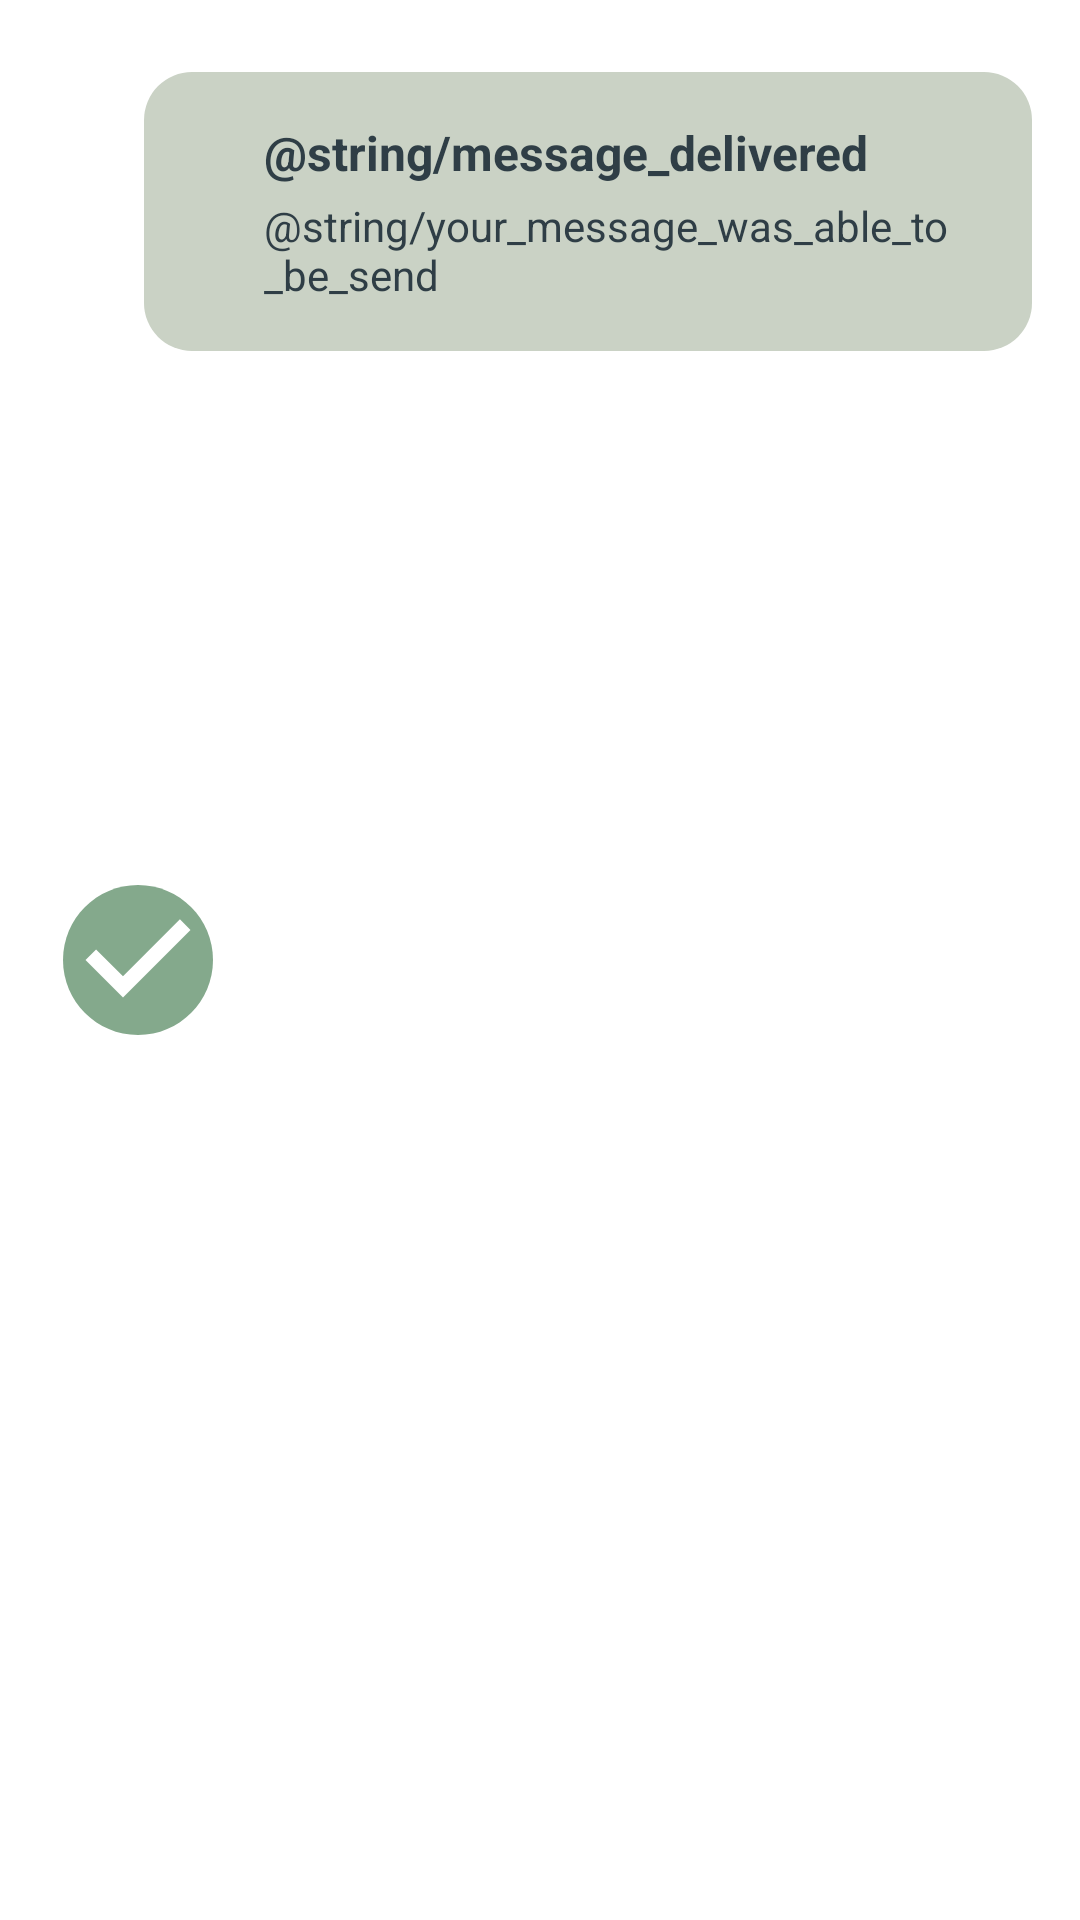

Locate icon controls on the screen. Image size 1080x1920, boxes as bbox(x1, y1, x2, y2).
check: bbox(63, 885, 213, 1035)
